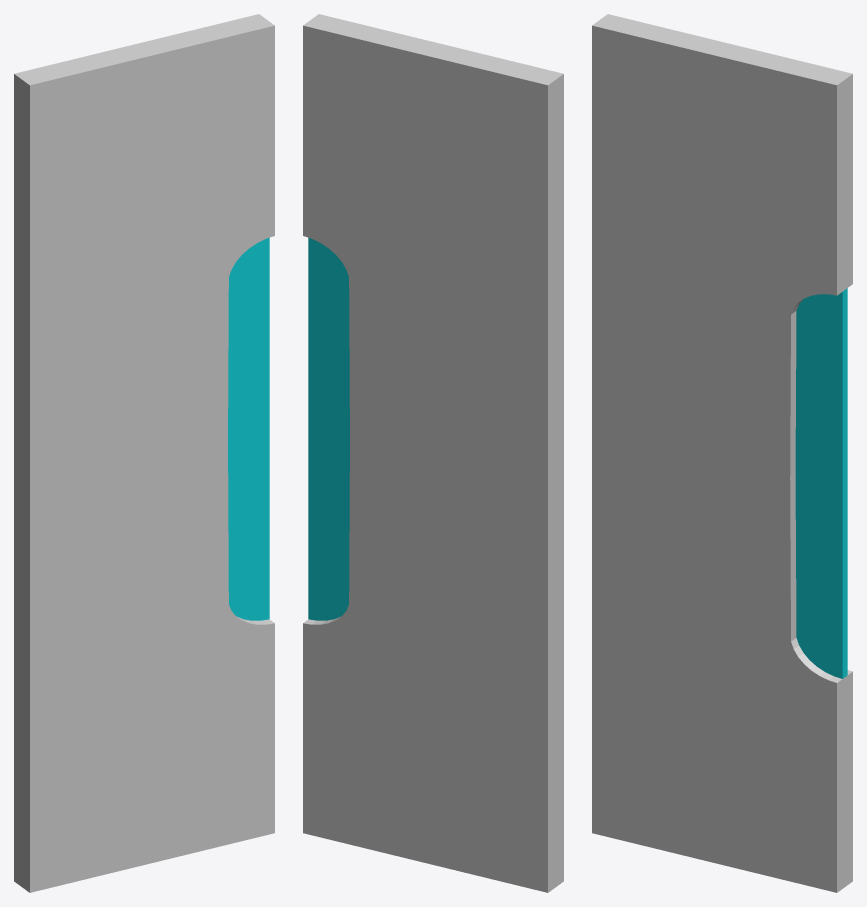
Rendered from Geo_Door.fbx.
3 renders of one model, left to right at view 1: azimuth 30°, elevation 25°; view 2: azimuth 150°, elevation 25°; view 3: azimuth 330°, elevation 25°, orthographic.
Parts seen in each view (by area): view 1: Door; view 2: Door; view 3: Door.
Part boxes in pixels (x1,y1,x2,y2): Door: (14, 14, 274, 892); Door: (303, 14, 563, 892); Door: (592, 14, 852, 892).
Size of the model in its own units: 95.27 by 300 by 10.66.
